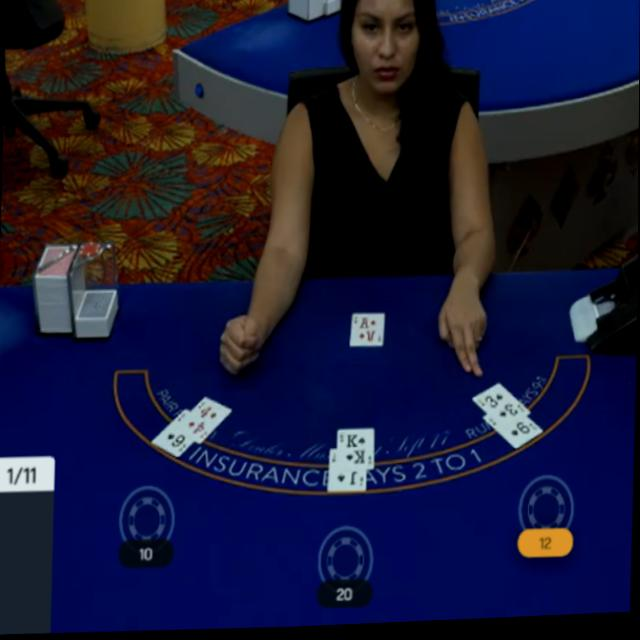Card-3: (473, 387, 530, 429)
Card-4: (178, 399, 231, 445)
Card-6: (151, 410, 194, 459)
Card-9: (483, 418, 543, 452)
Card-A: (350, 317, 384, 349)
Card-J: (328, 451, 366, 494)
Card-K: (338, 431, 374, 472)
